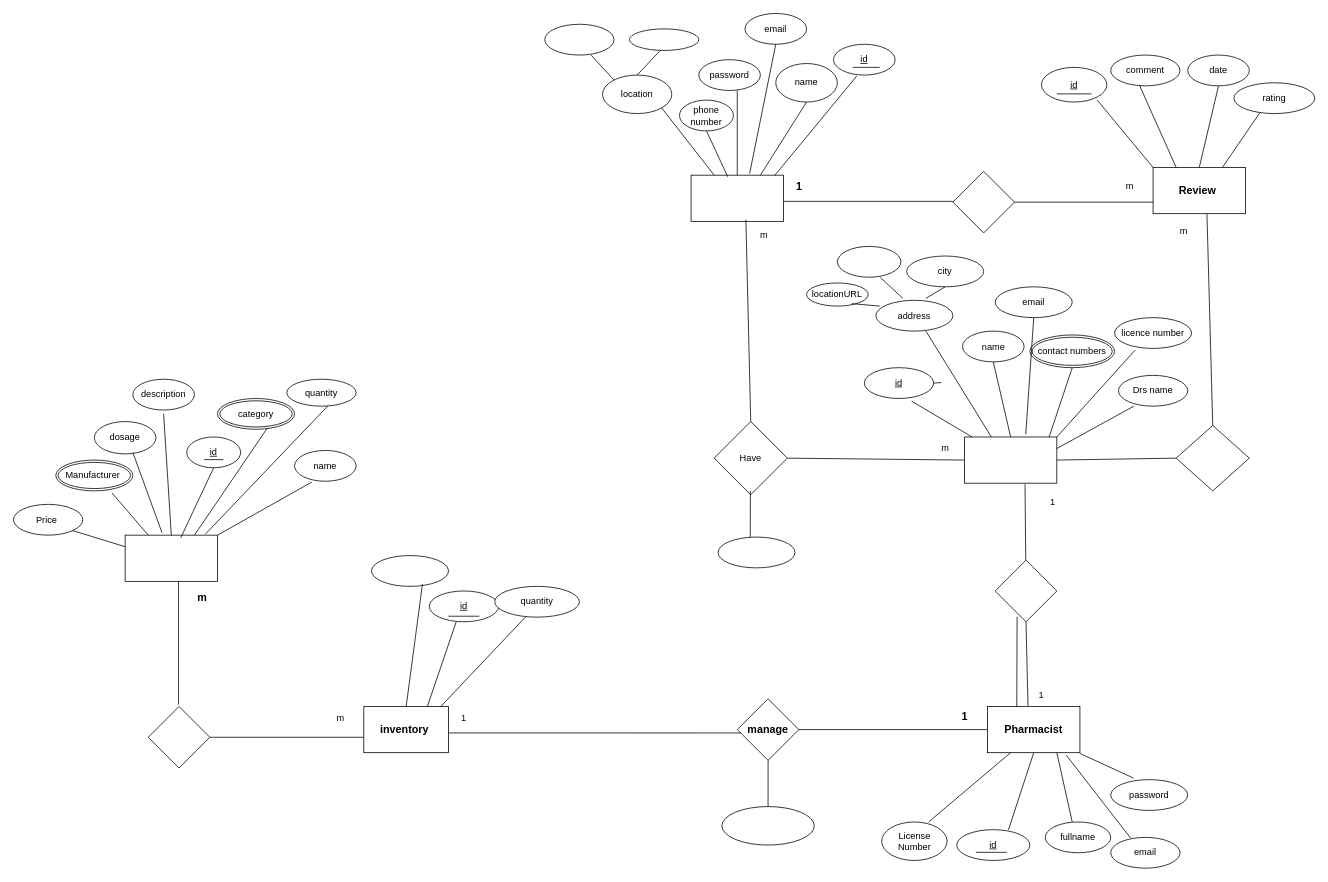
Some shapes in this 1328 by 882 pixel diagram are drawn without their labels. Each missing label, with the box of its shape:
branch: (721, 806, 814, 845)
exist at: (147, 706, 210, 768)
favorite pharmcy: (717, 536, 795, 568)
Has: (952, 171, 1014, 233)
lang: (544, 23, 614, 55)
latuted: (629, 28, 699, 50)
Medicine: (124, 534, 218, 581)
Own: (1175, 425, 1249, 491)
Pharmacy: (964, 436, 1057, 483)
street: (837, 246, 901, 277)
update date: (371, 555, 449, 586)
USER: (690, 174, 783, 221)
work: (994, 559, 1057, 622)
